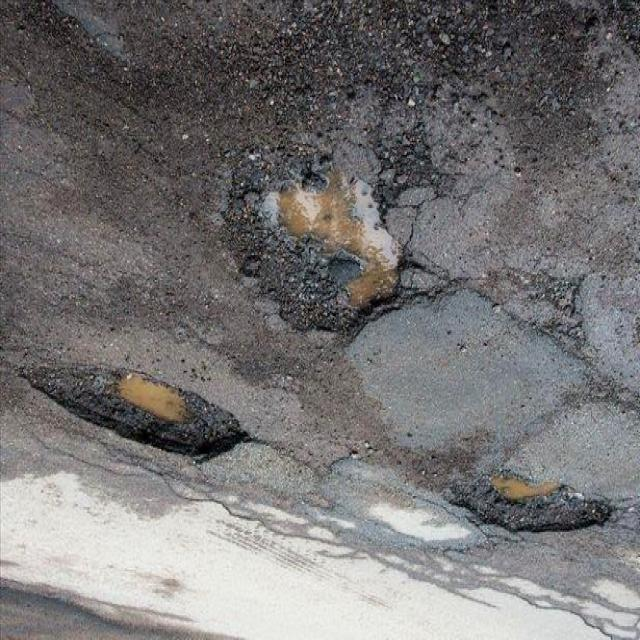jalan retak: (0, 404, 372, 568), (306, 520, 504, 626), (0, 102, 175, 194), (334, 415, 482, 522), (464, 260, 596, 374), (384, 119, 496, 238), (471, 574, 640, 640), (0, 586, 209, 638), (397, 518, 531, 576), (554, 364, 640, 427)
lubang: (216, 117, 440, 346), (27, 360, 251, 466), (0, 0, 155, 110), (452, 474, 620, 540)
